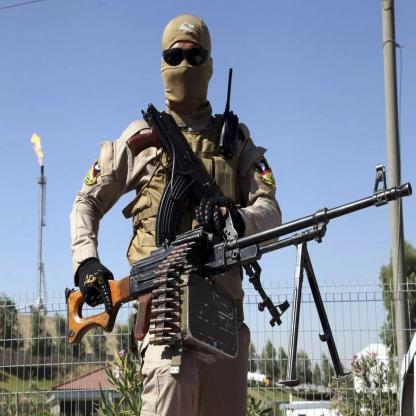rifle: (64, 164, 414, 351), (140, 101, 288, 331)
